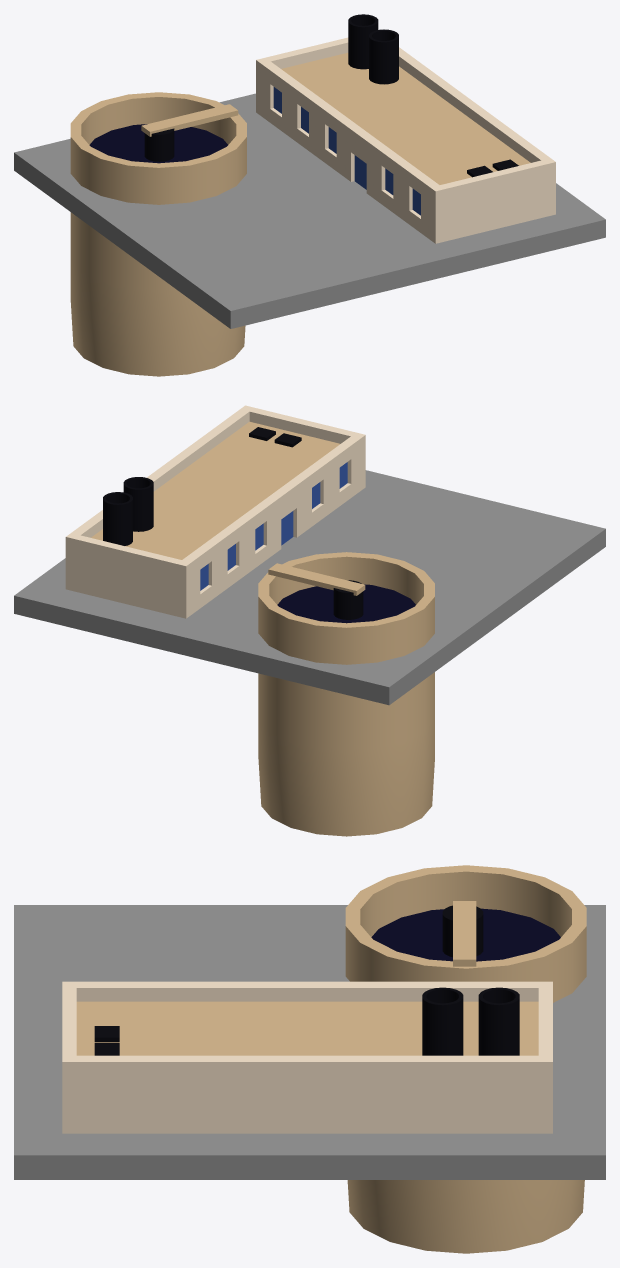
File: Oczyszczalnia I.FBX
3 renders of one model, top to bottom at view 1: azimuth 30°, elevation 25°; view 2: azimuth 150°, elevation 25°; view 3: azimuth 270°, elevation 25°, orthographic. The views are drawn at different scales.
Visible parts, largest first — view 1: Plane001, Cylinder002, Box002, Object, Cylinder006, Cylinder005, Cylinder004, Box001, Cylinder003, Box004; view 2: Plane001, Cylinder002, Box002, Object, Cylinder006, Cylinder004, Cylinder005, Box001, Cylinder003, Box004; view 3: Plane001, Box002, Cylinder002, Object, Cylinder006, Cylinder005, Cylinder004, Box001, Cylinder003.
Boxes of the visible parts, left/top/right/bottom form: Plane001: left=14, top=93, right=605, bottom=328; Cylinder002: left=70, top=92, right=246, bottom=376; Box002: left=256, top=37, right=555, bottom=243; Object: left=281, top=52, right=530, bottom=184; Cylinder006: left=89, top=124, right=227, bottom=163; Cylinder005: left=369, top=29, right=398, bottom=84; Cylinder004: left=348, top=14, right=378, bottom=69; Box001: left=141, top=104, right=238, bottom=136; Cylinder003: left=144, top=128, right=174, bottom=161; Box004: left=273, top=87, right=336, bottom=153; Plane001: left=14, top=470, right=605, bottom=705; Cylinder002: left=258, top=552, right=434, bottom=836; Box002: left=65, top=405, right=365, bottom=618; Object: left=91, top=421, right=339, bottom=559; Cylinder006: left=277, top=584, right=415, bottom=623; Cylinder004: left=103, top=492, right=132, bottom=545; Cylinder005: left=123, top=477, right=153, bottom=531; Box001: left=268, top=563, right=365, bottom=595; Cylinder003: left=333, top=580, right=363, bottom=619; Box004: left=200, top=523, right=263, bottom=590; Plane001: left=14, top=905, right=605, bottom=1179; Box002: left=62, top=981, right=552, bottom=1133; Cylinder002: left=345, top=865, right=586, bottom=1253; Object: left=76, top=1001, right=538, bottom=1055; Cylinder006: left=371, top=908, right=560, bottom=961; Cylinder005: left=422, top=987, right=463, bottom=1055; Cylinder004: left=478, top=987, right=519, bottom=1055; Box001: left=453, top=901, right=476, bottom=966; Cylinder003: left=442, top=905, right=483, bottom=957.
Bounding box in the file's own units: 39.37 × 25.81 × 39.37.
